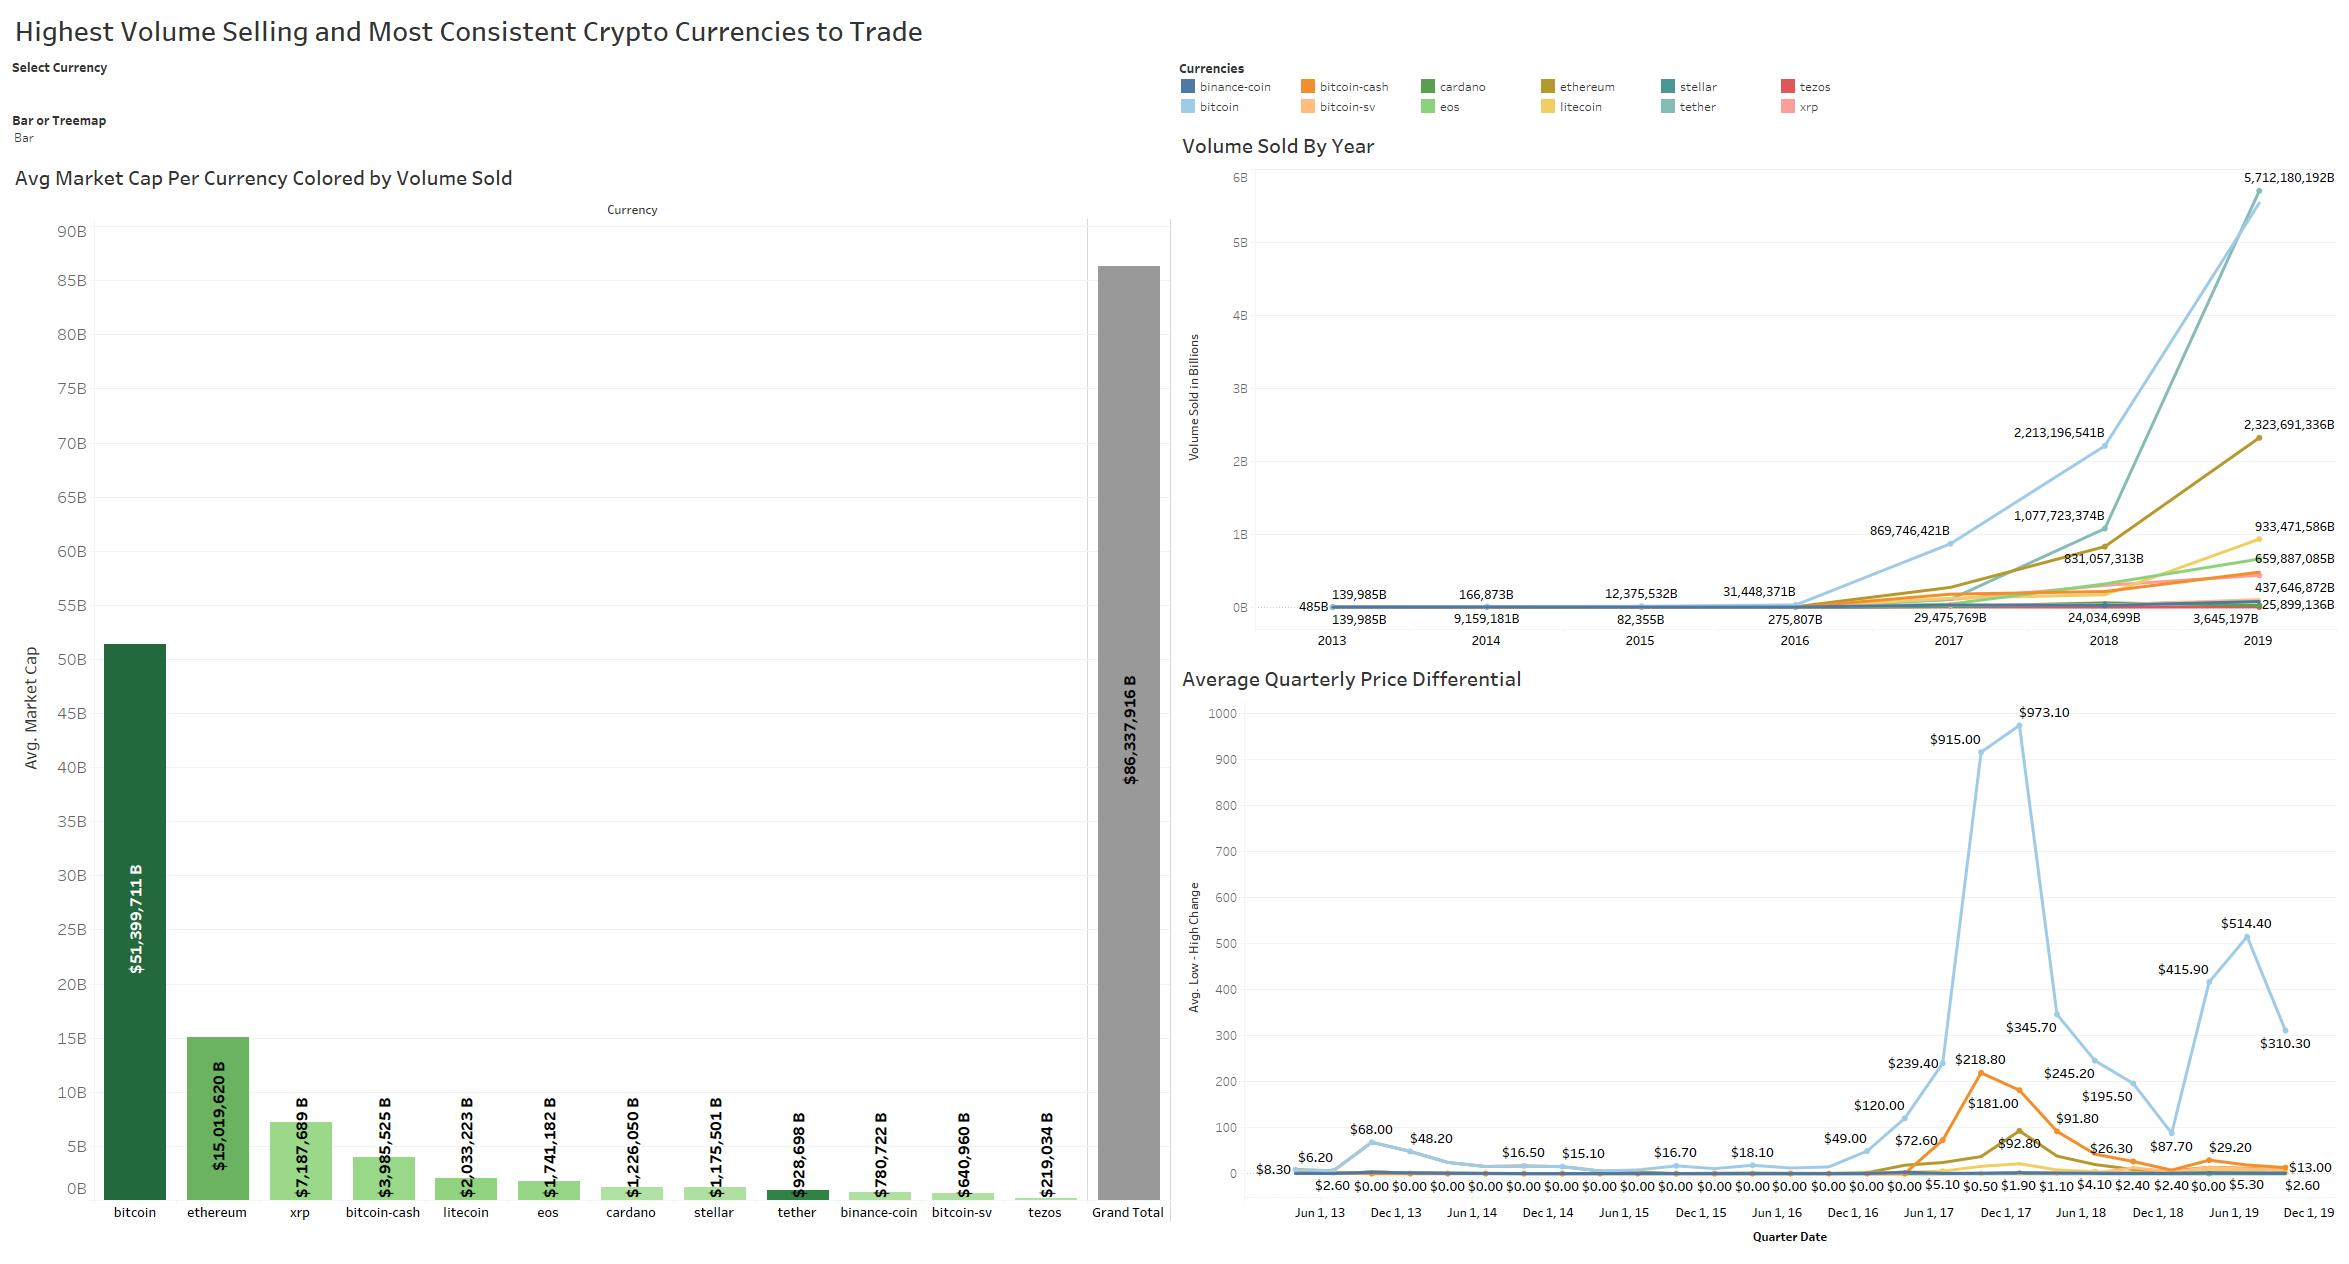

This screenshot's page, from the dashboard's own definition file:
{"tool":"tableau","page":{"name":"Dashboard 1","canvas":[1000,1000],"units":"permille","ordinal":0},"visuals":[{"type":"title","box":[3.4,6.3,993.2,35.6]},{"type":"parameter","param":"[Parameters].[Parameter 1]","box":[3.4,41.9,496.6,41.9]},{"type":"legend","title":"Sheet 2","param":"[federated.139xywp1cdabz71bt36gd112pha2].[none:Currency:nk]","box":[500,41.9,496.6,53.8]},{"type":"parameter","param":"[Parameters].[Parameter 2]","box":[3.4,83.9,496.6,41.9]},{"type":"worksheet","title":"Sheet 2","mark":"Automatic","rows":["Calculation_208854468623298567"],"cols":["Calculation_208854469305638930"],"box":[500,95.7,496.6,422.1]},{"type":"text","box":[3.4,125.8,496.6,28.5]},{"type":"worksheet","title":"Sheet 1","mark":"Automatic","rows":["vtsum"],"cols":["Currency"],"box":[3.4,154.3,496.6,815.7]},{"type":"worksheet","title":"Sheet 3","mark":"Automatic","rows":["Calculation_208854468627824650"],"cols":["Calculation_208854469303730189"],"box":[500,517.8,496.6,475.9]},{"type":"worksheet","title":"Sheet 4","mark":"Automatic","box":[3.4,969.9,496.6,23.7]}]}

Visuals, with their boxes on the dashboard's canvas, which has no fixed pixel size, in thousandths of its width and height (x1, y1, x2, y2). These are canvas units, not pixel positions in the 2349x1264 screenshot, which may show the page scaled, cropped or inside an application window:
title: (x1=3, y1=6, x2=997, y2=42)
parameter: (x1=3, y1=42, x2=500, y2=84)
"Sheet 2" legend: (x1=500, y1=42, x2=997, y2=96)
parameter: (x1=3, y1=84, x2=500, y2=126)
"Sheet 2" worksheet: (x1=500, y1=96, x2=997, y2=518)
text: (x1=3, y1=126, x2=500, y2=154)
"Sheet 1" worksheet: (x1=3, y1=154, x2=500, y2=970)
"Sheet 3" worksheet: (x1=500, y1=518, x2=997, y2=994)
"Sheet 4" worksheet: (x1=3, y1=970, x2=500, y2=994)
